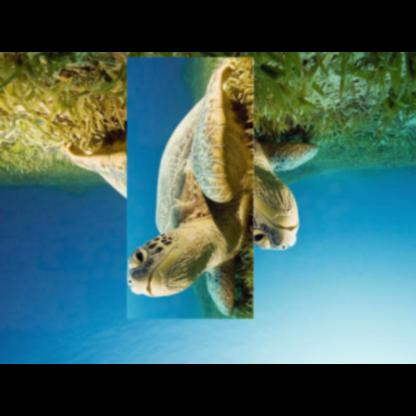turtle: (92, 90, 286, 284)
